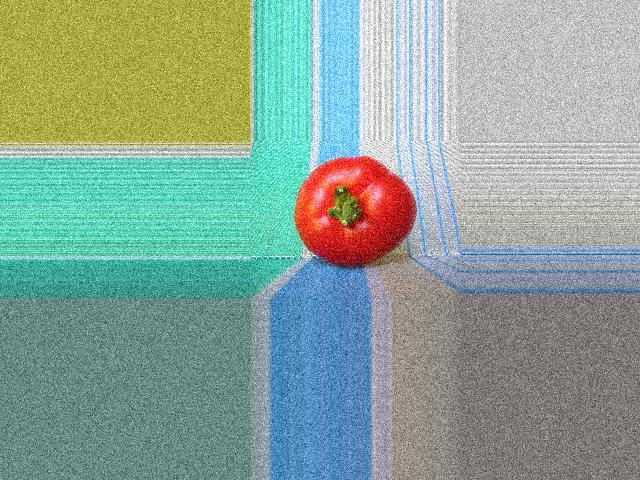tomato: (294, 156, 415, 267)
